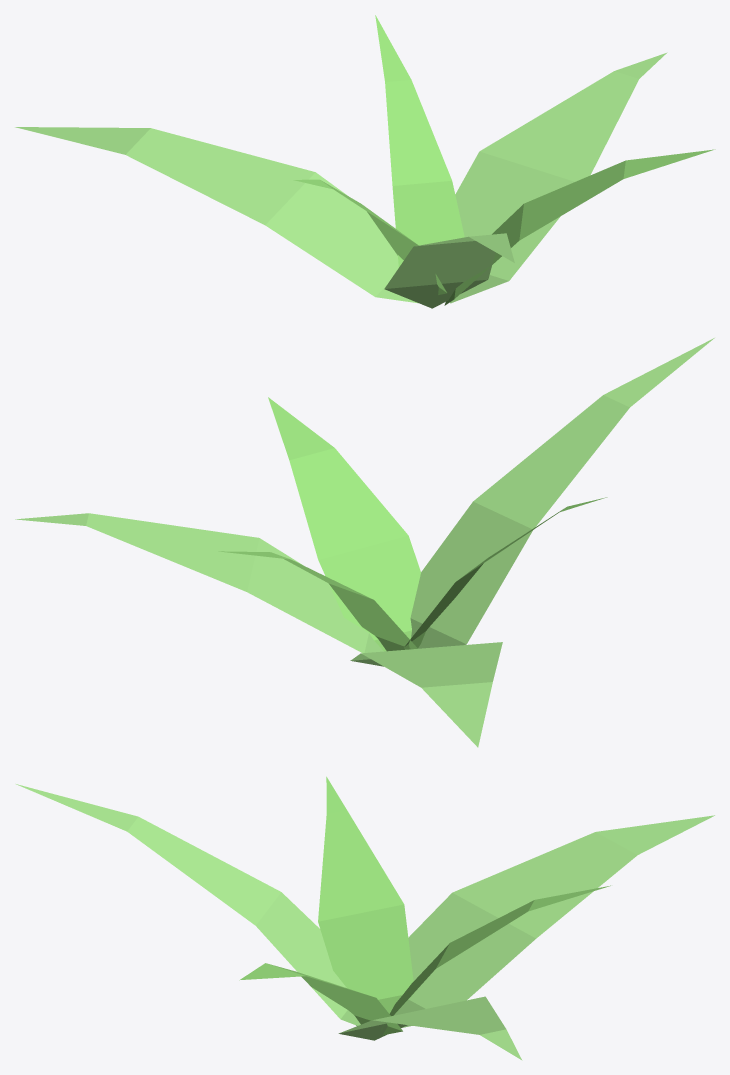
File: Plant_a_OneS_06.fbx
3 renders of one model, top to bottom at view 1: azimuth 30°, elevation 25°; view 2: azimuth 150°, elevation 25°; view 3: azimuth 270°, elevation 25°, orthographic. The views are drawn at different scales.
Parts seen in each view (by area): view 1: Plant_a_OneS_06; view 2: Plant_a_OneS_06; view 3: Plant_a_OneS_06.
Part boxes in pixels (x1,y1,x2,y2): Plant_a_OneS_06: (15, 15, 715, 308); Plant_a_OneS_06: (15, 338, 714, 747); Plant_a_OneS_06: (16, 776, 714, 1060).
Size of the model in its own units: 165 by 59.3 by 189.
